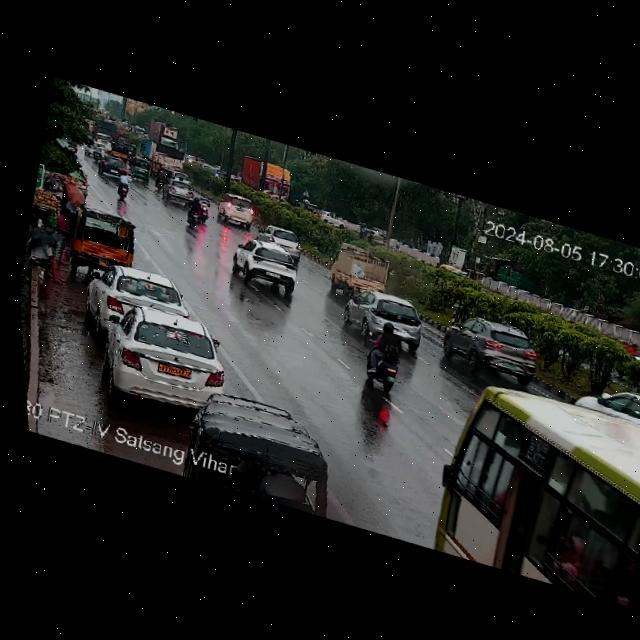bus: (413, 363, 640, 609)
car: (102, 299, 232, 416), (78, 255, 189, 355), (448, 306, 554, 392), (340, 282, 435, 357), (223, 224, 308, 301), (67, 205, 147, 277), (568, 372, 640, 434), (253, 216, 310, 263), (213, 186, 261, 231), (162, 174, 197, 208), (353, 223, 392, 249), (128, 152, 157, 185), (96, 150, 127, 179), (321, 210, 351, 230), (106, 138, 130, 162)
motorcycle: (344, 309, 421, 414), (111, 168, 142, 206), (149, 163, 175, 197), (180, 192, 204, 228), (58, 136, 84, 163), (194, 190, 215, 221), (87, 143, 104, 164)
person: (17, 219, 71, 287), (44, 203, 84, 274), (56, 179, 82, 209), (48, 173, 67, 201)
truck: (321, 237, 401, 308), (237, 151, 298, 202), (142, 135, 194, 174), (147, 116, 187, 148)
